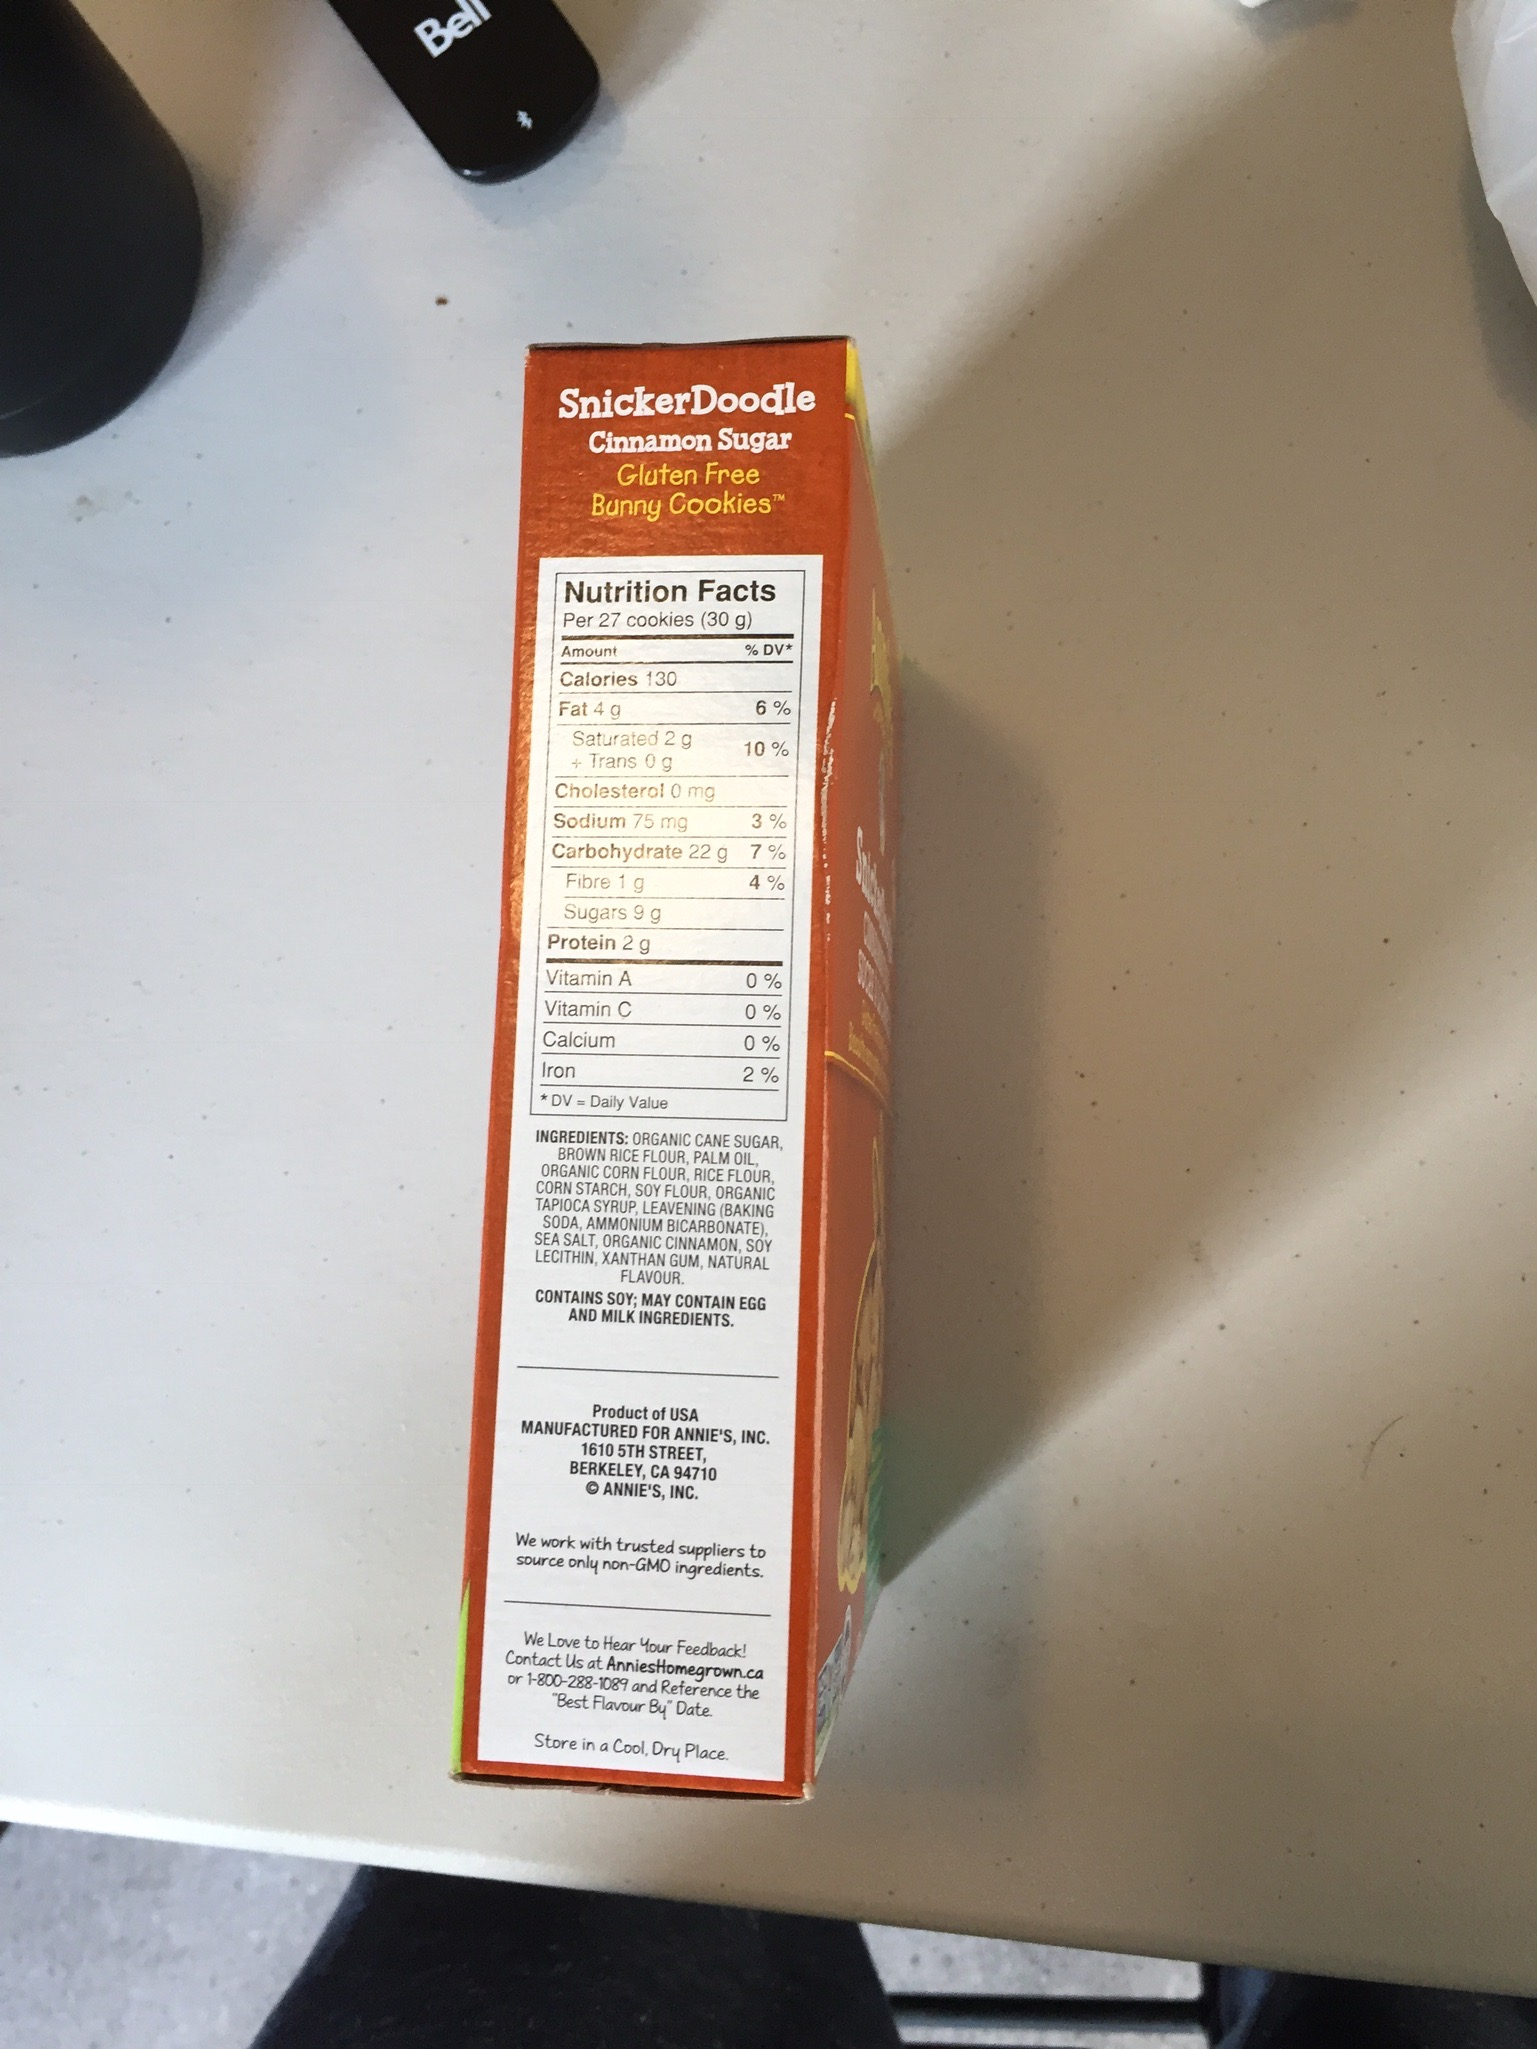annies_snickerdoodle_cinnamon_sugar: (530, 358, 802, 1795)
